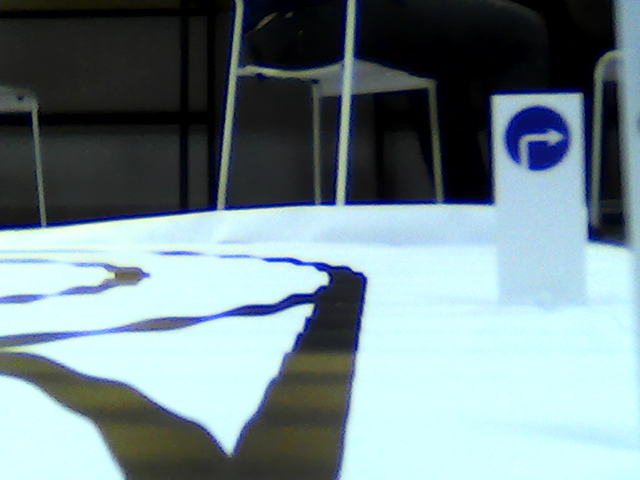Right: (502, 104, 567, 169)
